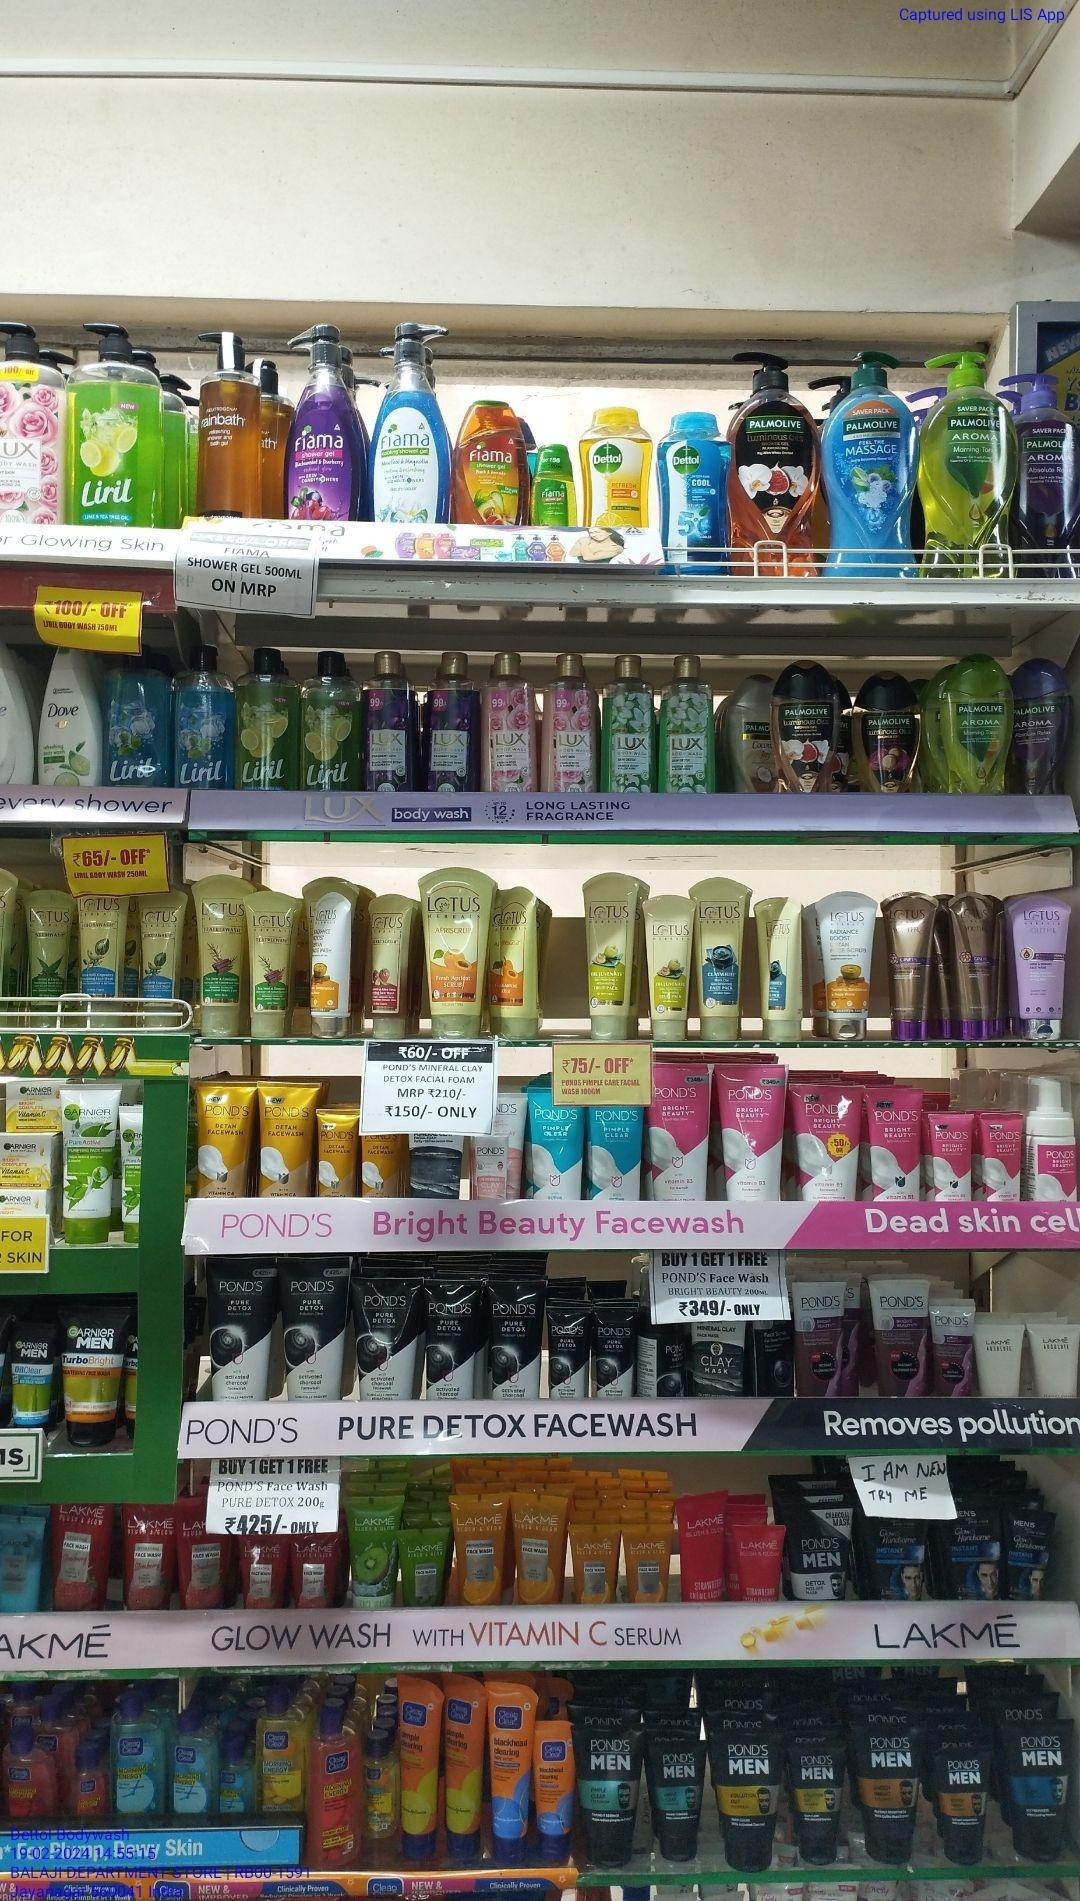Dettol_Bodywash_Cool: (656, 410, 733, 569)
Dettol_Bodywash_Refresh: (579, 405, 654, 529)
Fiama_Shower_Gel_Peach_and_Avocado_250ML: (453, 398, 530, 526)
Liril_Cooling_Mint_Body_Wash_250ML: (171, 640, 234, 789), (104, 654, 170, 787)
Liril_Lime_and_Tea_Tree_Oil_Body_Wash_250ML: (296, 645, 360, 793), (232, 646, 298, 789)
Lux_Black_Orchid_Scent_and_Juniper_Oil_Body_Wash_245ML: (417, 648, 481, 794), (362, 646, 417, 793)
Lux_Body_Wash_Skin_Detox_Freesia_Scent_and_Alove_Vera_245ML: (599, 653, 658, 793), (658, 654, 714, 794)
Palmolive_Aroma_Morning_Tonic_Shower_Gel_250ML: (939, 654, 1011, 795)
Palmolive_Luminous_Oils_With_White_Orchid_Shower_Gel_250ML: (772, 658, 841, 793)
